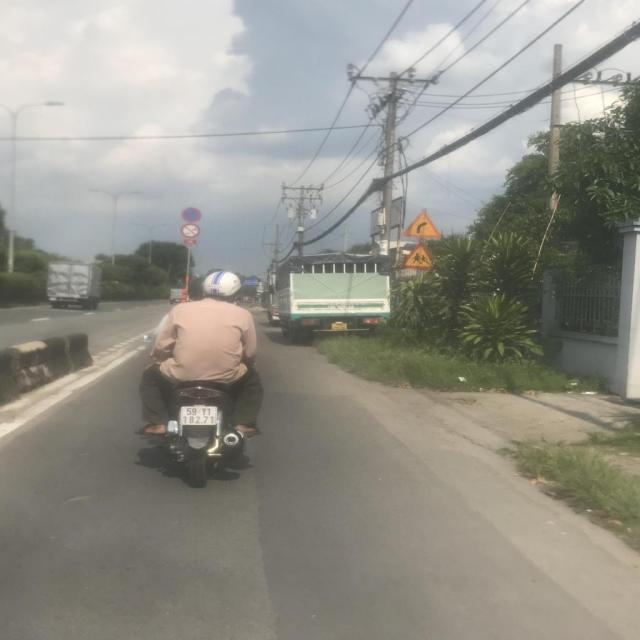cam_dung_xe_va_do_xe: (181, 208, 202, 224)
cam_xe_2_banh_va_xe_3_banh_co_dong_co: (180, 223, 199, 238)
cho_ngoat_nguy_hiem_ben_phai: (401, 210, 442, 238)
chu_y_tre_em: (398, 241, 436, 269)
